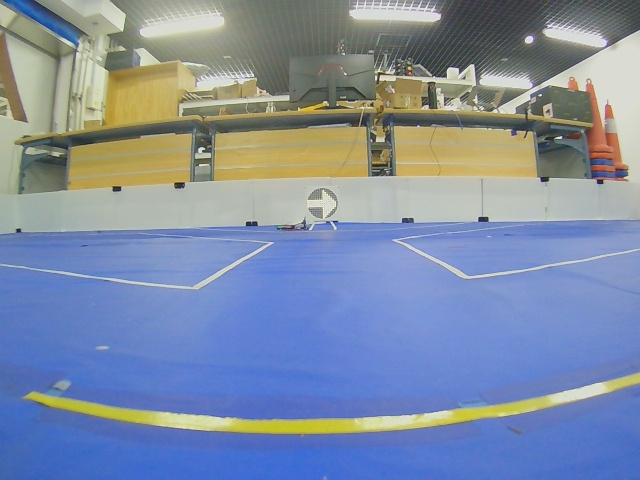right_yellow: (307, 188, 338, 220)
